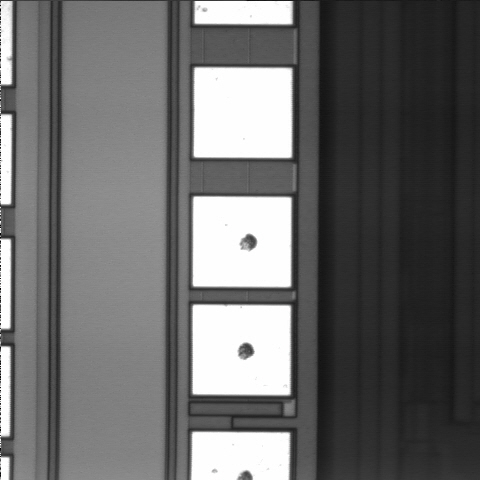pad: (194, 68, 292, 158), (193, 197, 291, 287), (193, 305, 291, 395)
